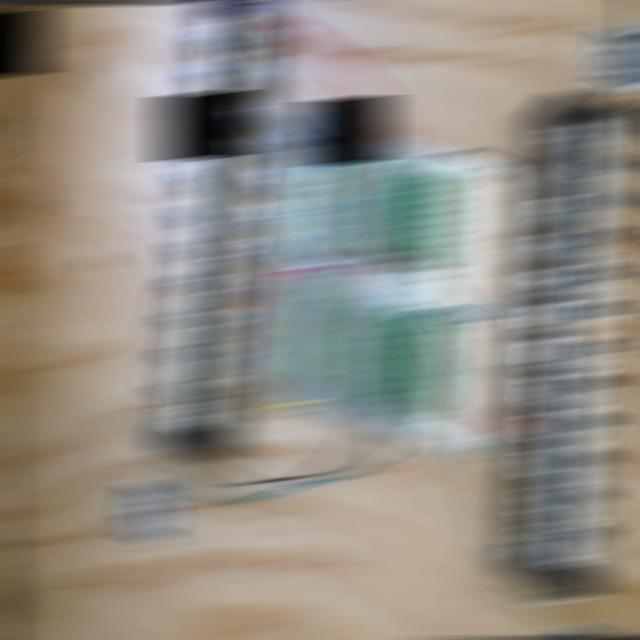Flathead_Block: (151, 0, 275, 461)
Phillips_Block: (520, 90, 637, 596)
Terminal_1: (297, 154, 344, 252), (288, 281, 333, 379)
Terminal_2: (409, 316, 454, 411), (379, 309, 423, 403), (349, 300, 393, 394), (390, 162, 434, 256), (362, 157, 405, 251)
